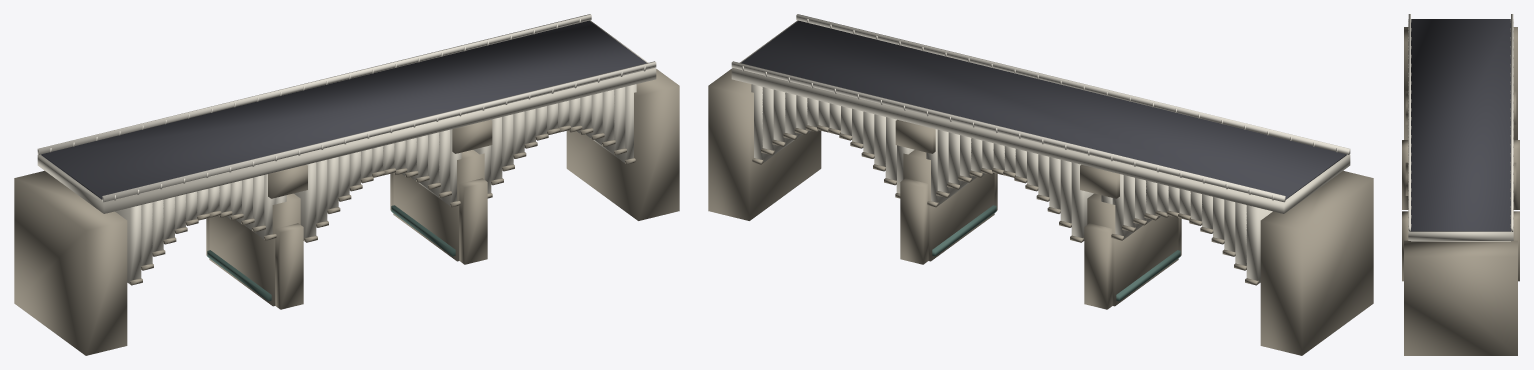
The model's file is valley_arch_viaduct.glb.
3 renders of one model, left to right at view 1: azimuth 30°, elevation 25°; view 2: azimuth 150°, elevation 25°; view 3: azimuth 270°, elevation 25°, orthographic. The views are drawn at different scales.
Visible parts, largest first — view 1: Surface_stone, Surface_deck, Surface_concrete, Surface_rail, Surface_water_line; view 2: Surface_stone, Surface_deck, Surface_concrete, Surface_rail, Surface_water_line; view 3: Surface_deck, Surface_stone, Surface_rail, Surface_concrete.
Part boxes in pixels (x1,y1,x2,y2): Surface_stone: [14, 69, 679, 355]; Surface_deck: [41, 20, 646, 199]; Surface_concrete: [37, 20, 656, 283]; Surface_rail: [37, 14, 656, 202]; Surface_water_line: [207, 205, 455, 301]; Surface_stone: [708, 69, 1373, 355]; Surface_deck: [741, 20, 1346, 199]; Surface_concrete: [731, 20, 1350, 283]; Surface_rail: [731, 14, 1350, 202]; Surface_water_line: [932, 205, 1180, 301]; Surface_deck: [1411, 19, 1510, 231]; Surface_stone: [1402, 27, 1519, 355]; Surface_rail: [1408, 14, 1513, 231]; Surface_concrete: [1408, 23, 1513, 241].
Size of the model in its own units: 129 by 31.5 by 28.
